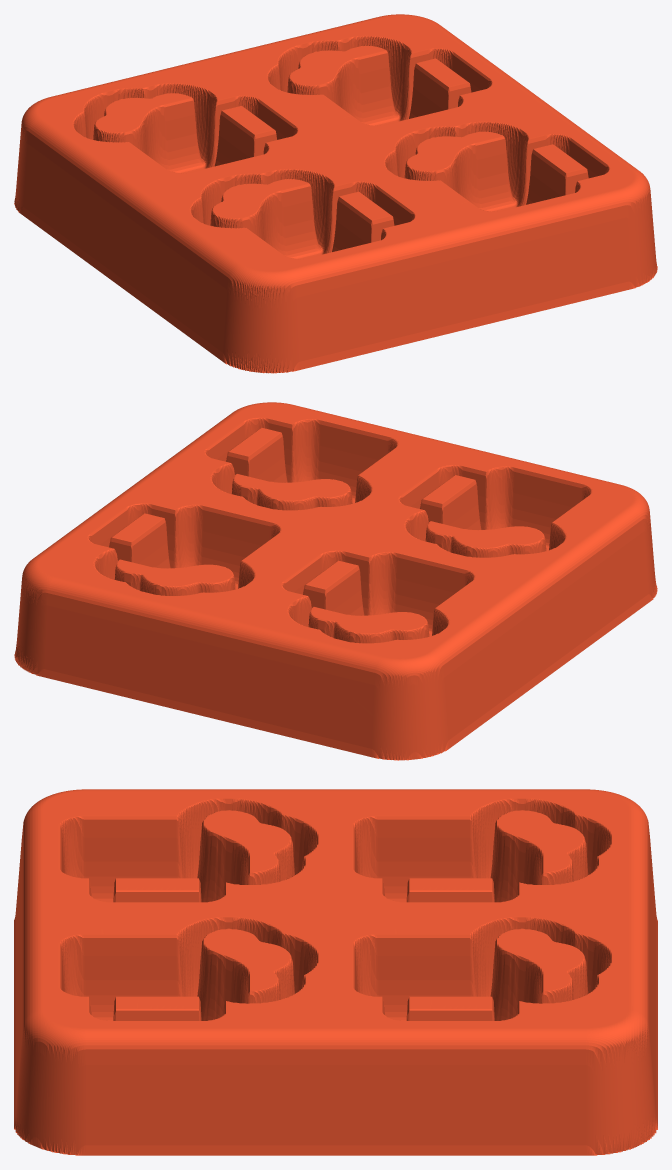
Rendered from mold.glb.
3 renders of one model, top to bottom at view 1: azimuth 30°, elevation 25°; view 2: azimuth 150°, elevation 25°; view 3: azimuth 270°, elevation 25°, orthographic. The views are drawn at different scales.
Visible parts, largest first — view 1: geometry_0; view 2: geometry_0; view 3: geometry_0.
Boxes of the visible parts, left/top/right/bottom form: geometry_0: left=14, top=14, right=657, bottom=373; geometry_0: left=14, top=402, right=657, bottom=760; geometry_0: left=14, top=789, right=657, bottom=1155.
Bounding box in the file's own units: 0.0776 × 0.0159 × 0.0808.
